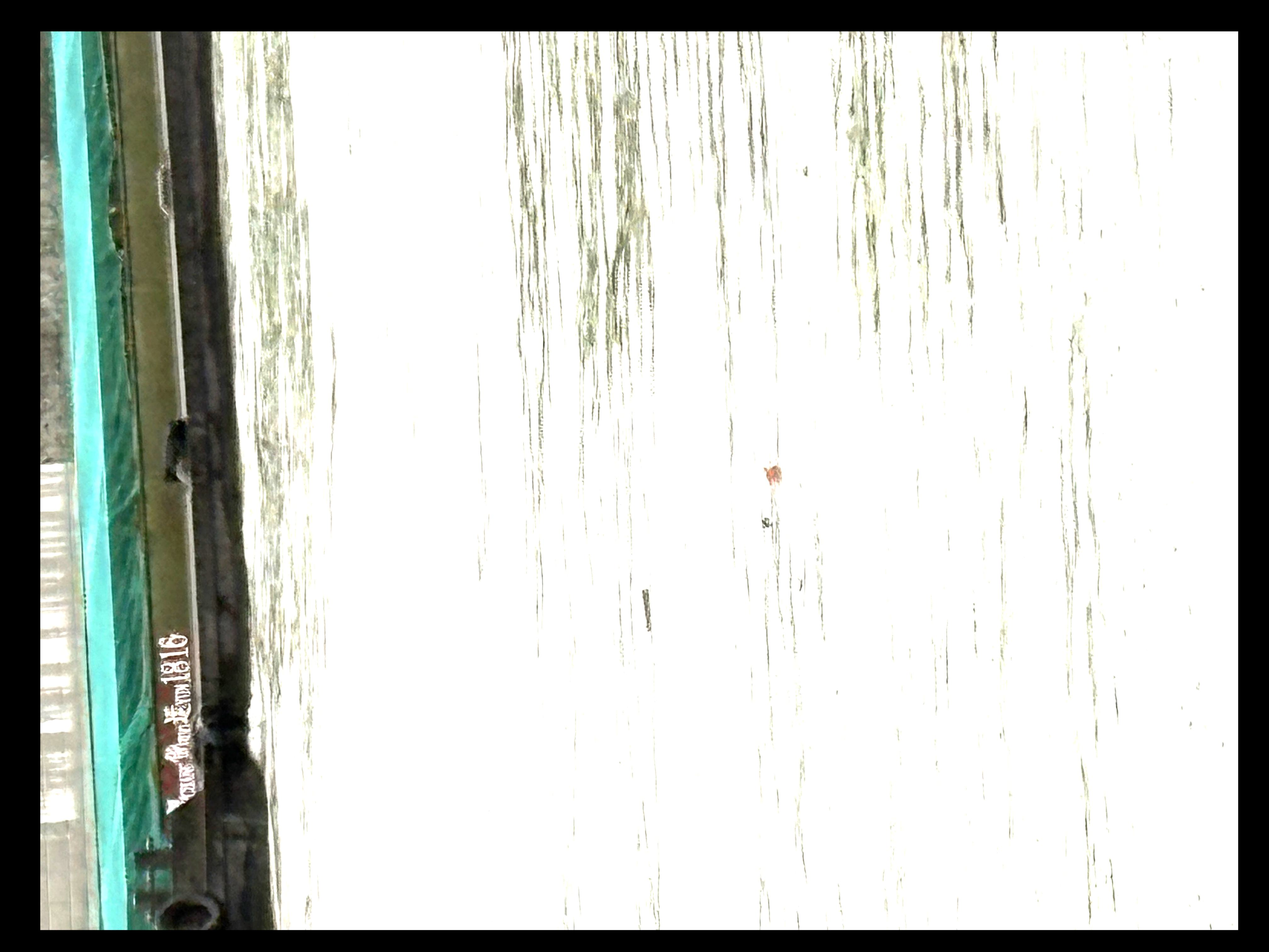Natural wastes: (648, 579, 671, 626), (767, 452, 796, 484), (770, 508, 788, 524)
